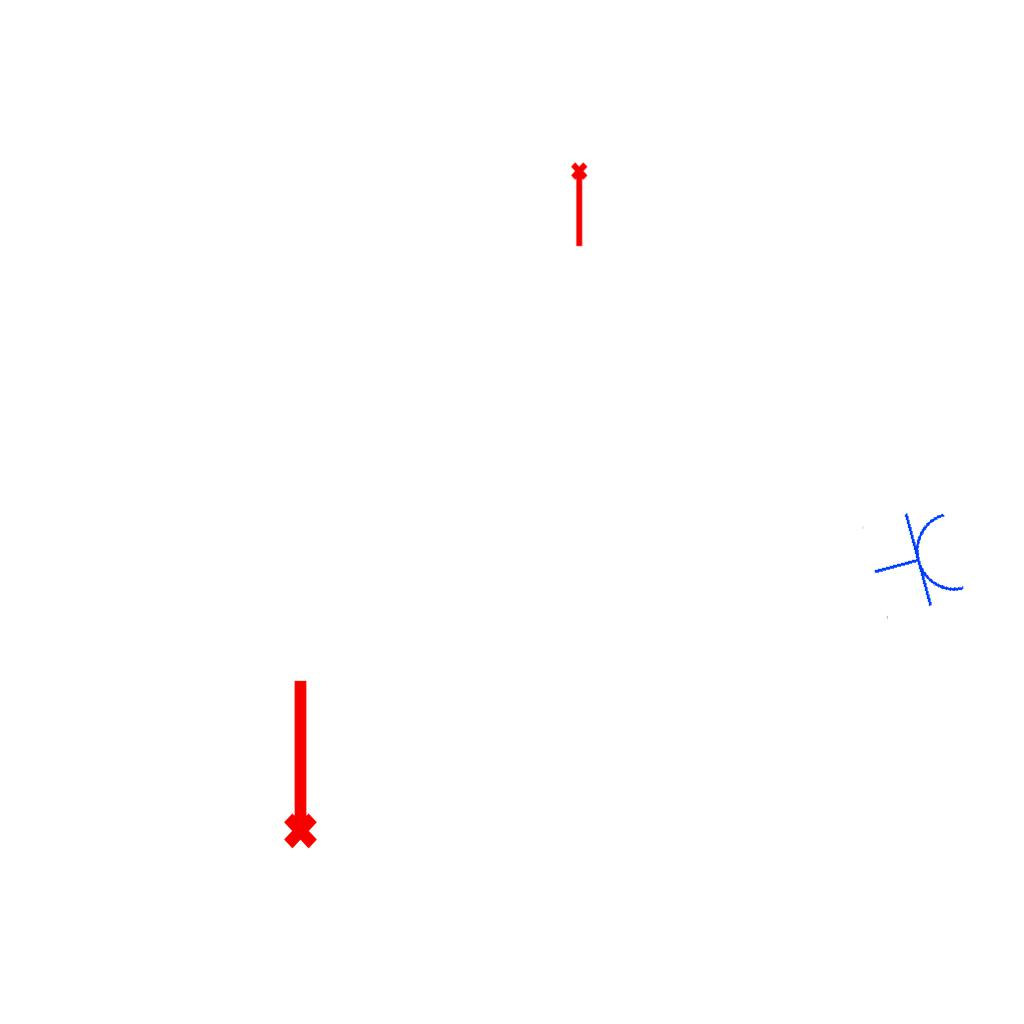ASR_Ansaugoeffnung: (275, 675, 321, 851), (569, 161, 592, 249)
Schukosteckdose_einfach: (861, 501, 971, 622)
